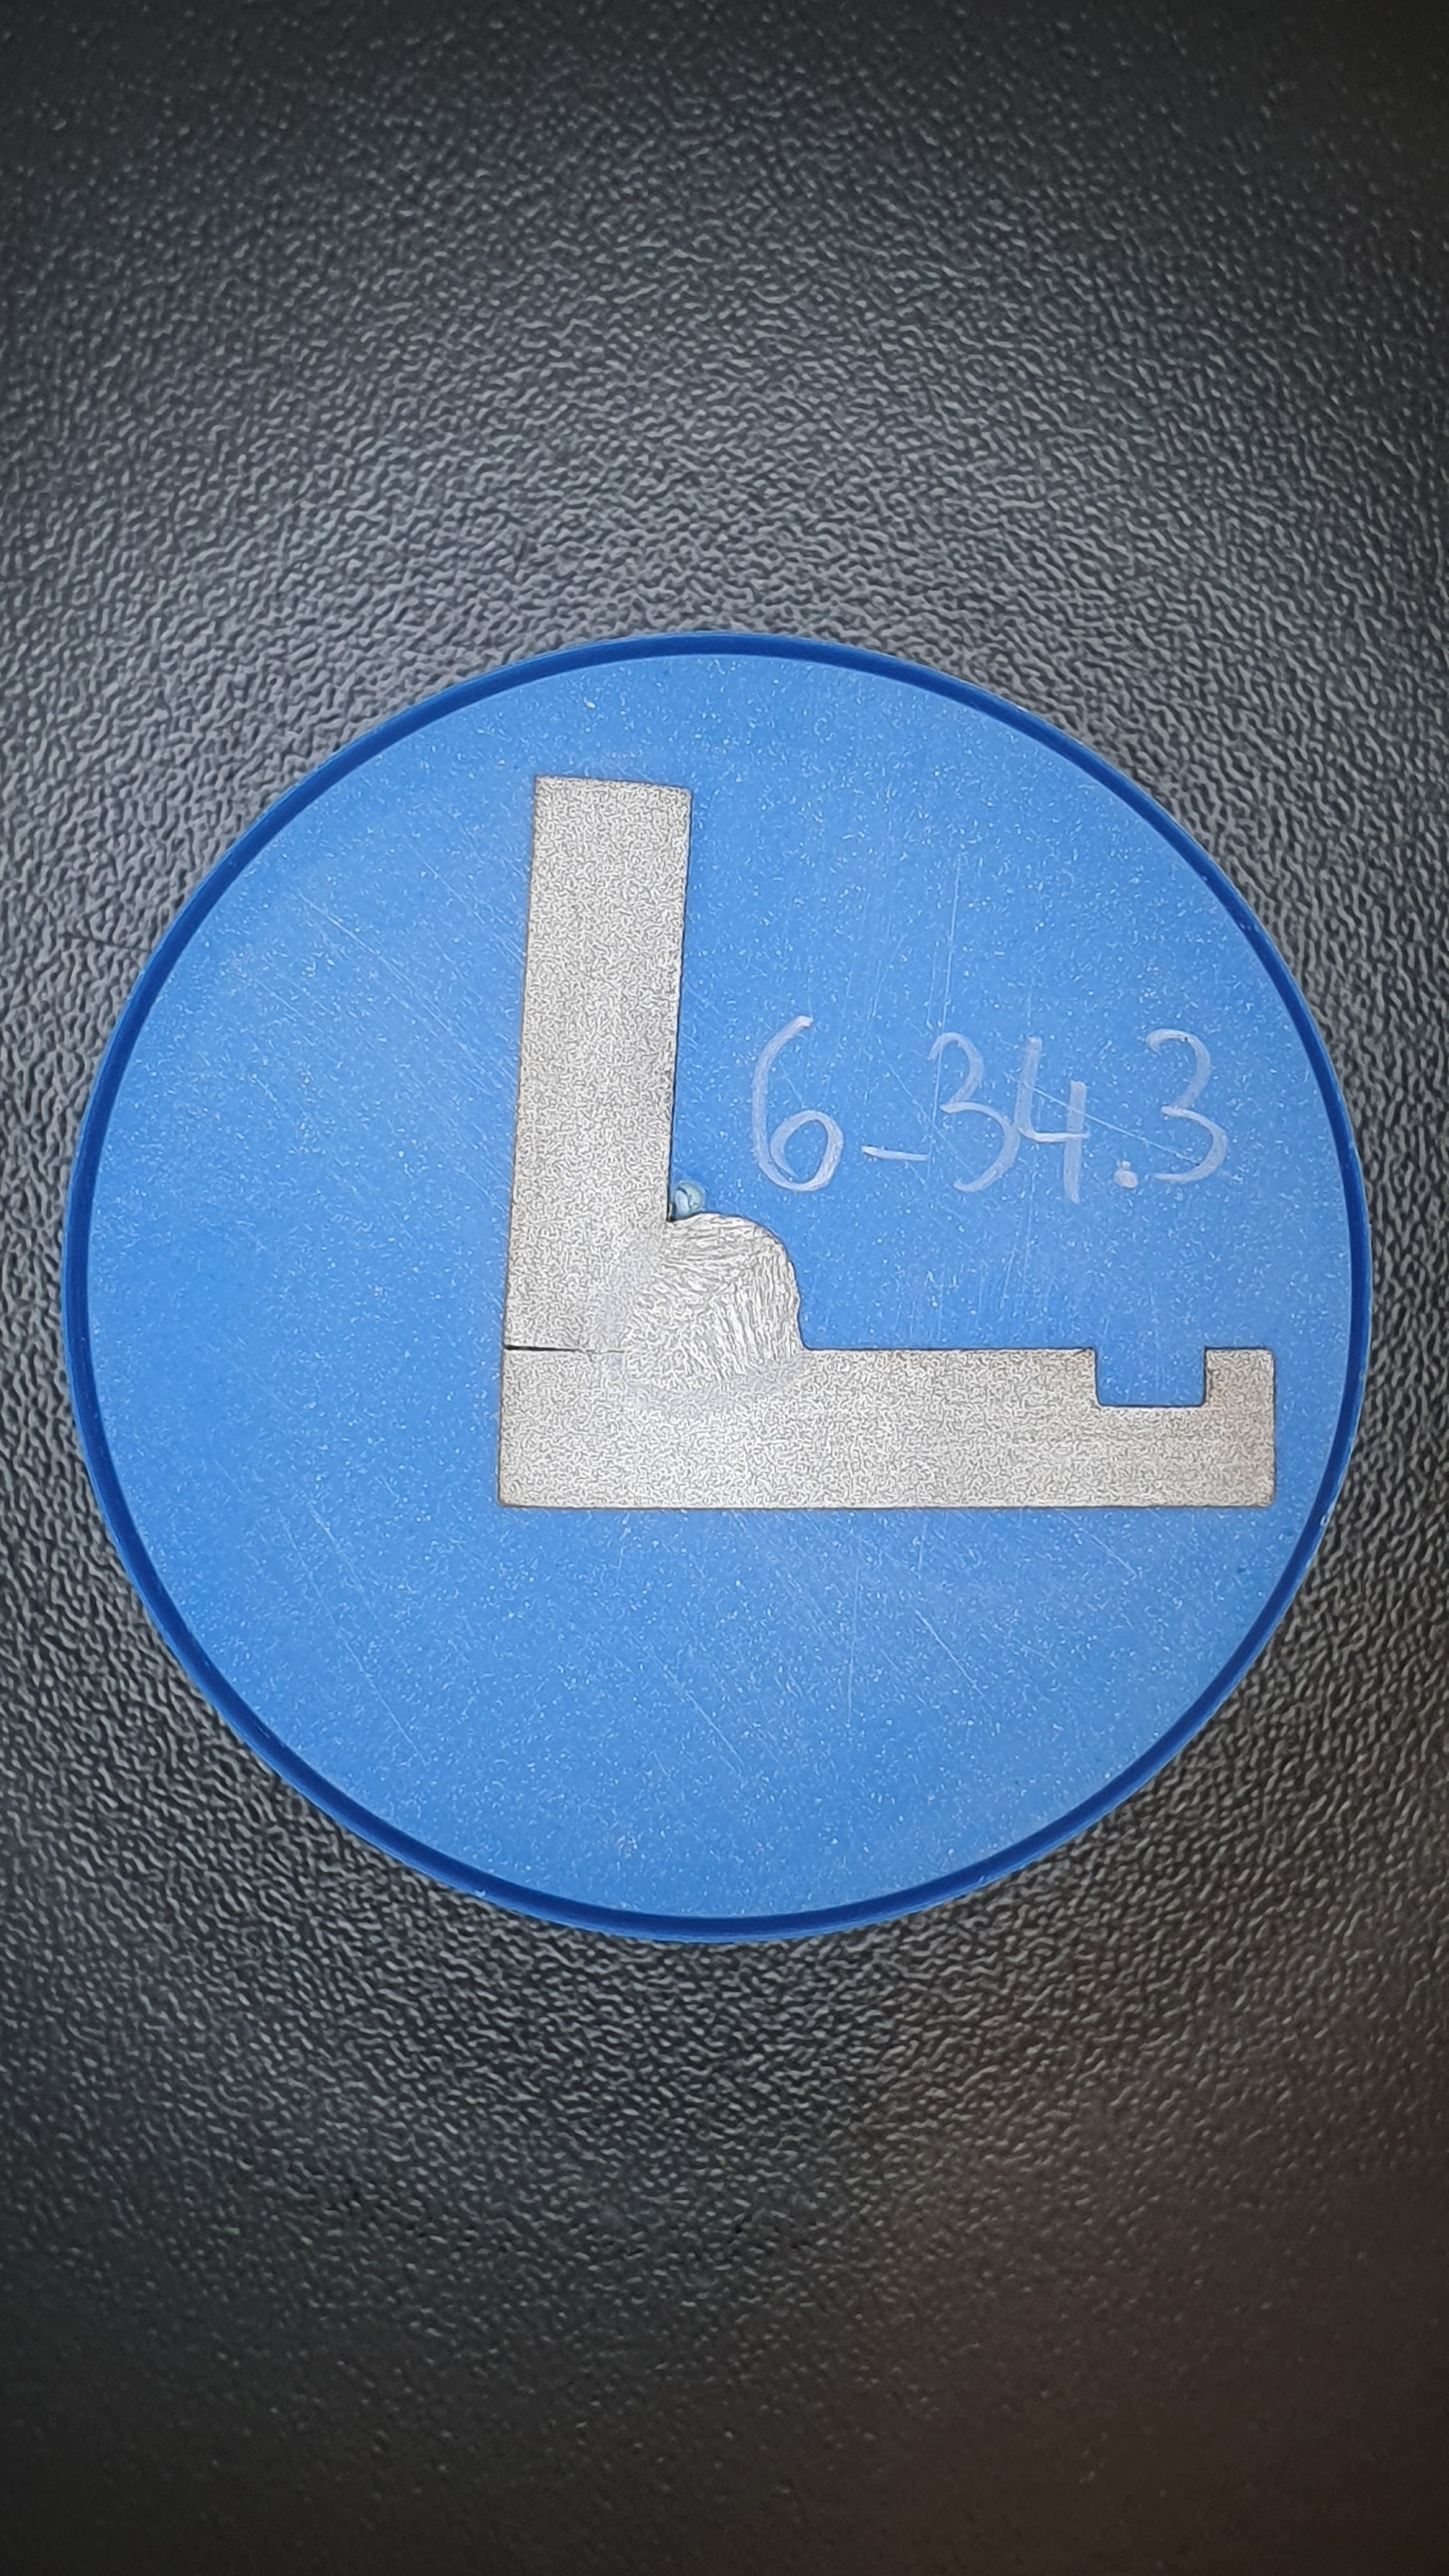Fusion: (619, 1214, 803, 1394)
Hintergrund: (92, 653, 1352, 1920)
Metall: (499, 775, 1276, 1509)
Nebenbereich: (591, 1214, 817, 1419)
